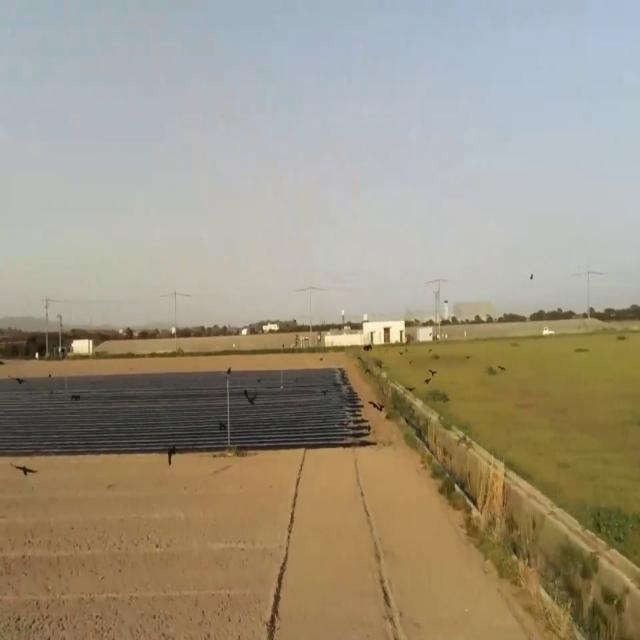bird: (14, 454, 36, 488), (426, 364, 437, 385)
